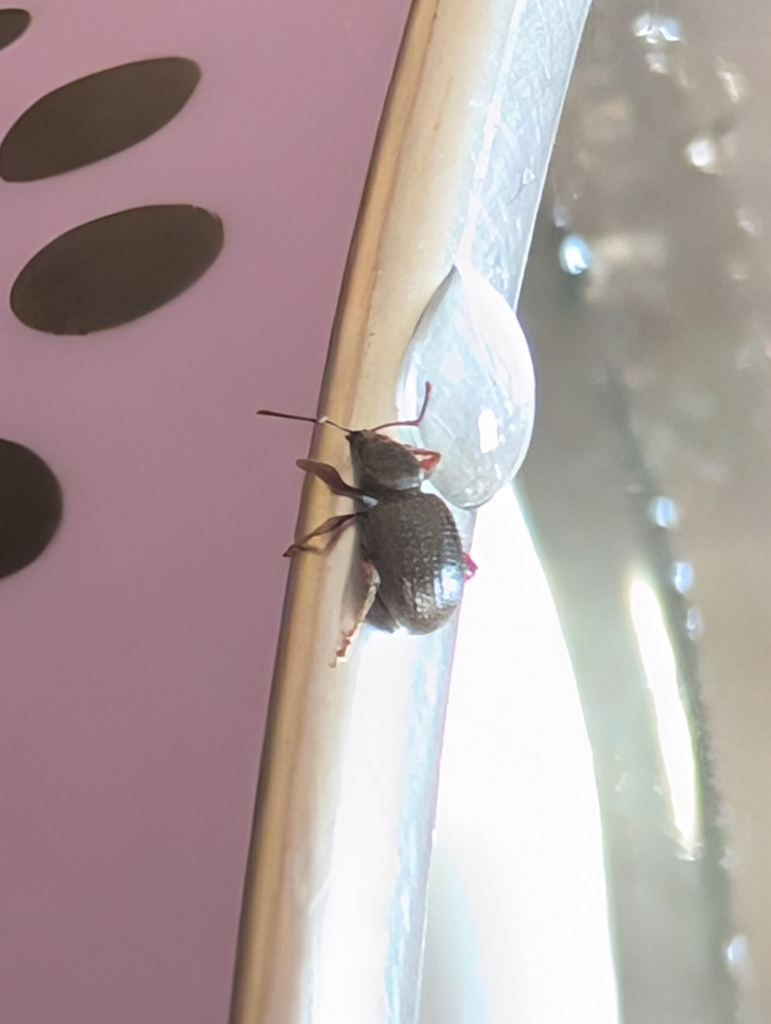weevils: (183, 311, 588, 748)
